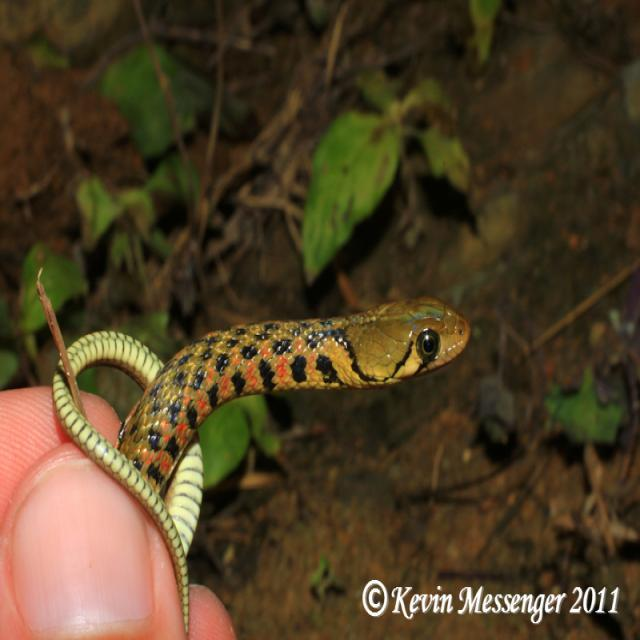Snake: (34, 265, 472, 634)
